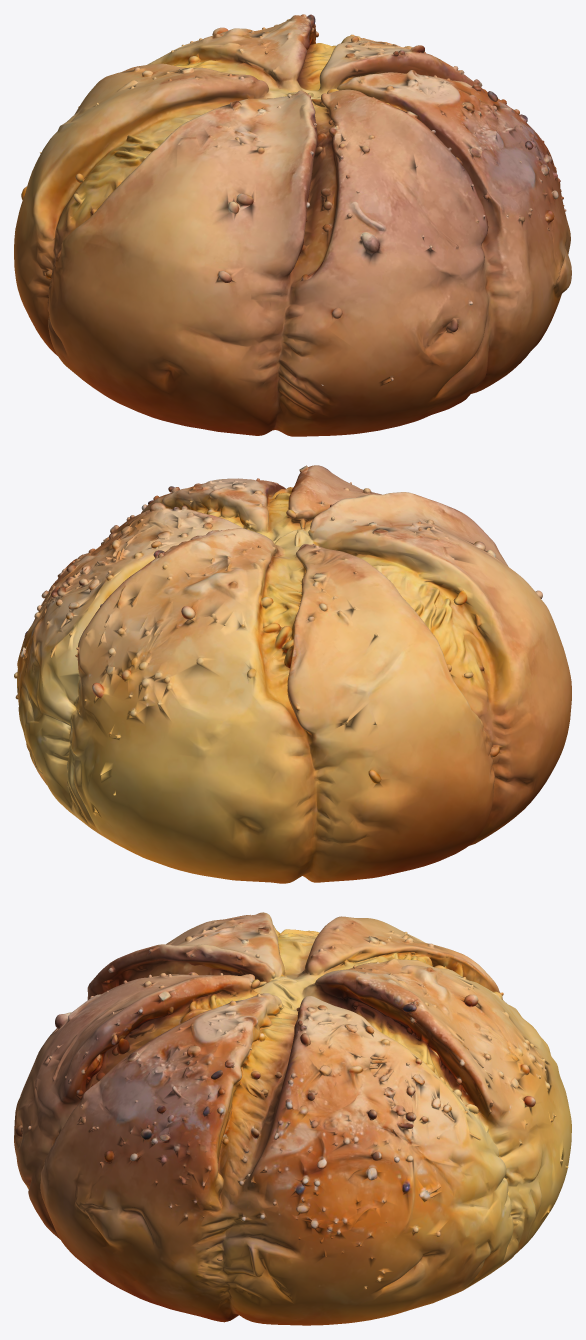
Rendered from bread.opt.glb.
The picture shows the model from 3 angles, top to bottom: view 1: azimuth 30°, elevation 25°; view 2: azimuth 150°, elevation 25°; view 3: azimuth 270°, elevation 25°; orthographic projection.
Parts seen in each view (by area): view 1: tripo_node_838ca63f-410a-48e7-95b6-53962bc68636; view 2: tripo_node_838ca63f-410a-48e7-95b6-53962bc68636; view 3: tripo_node_838ca63f-410a-48e7-95b6-53962bc68636.
Boxes of the visible parts, box(x1,y1,x2,y2) form: tripo_node_838ca63f-410a-48e7-95b6-53962bc68636: box(14, 14, 571, 436); tripo_node_838ca63f-410a-48e7-95b6-53962bc68636: box(14, 465, 571, 883); tripo_node_838ca63f-410a-48e7-95b6-53962bc68636: box(14, 912, 571, 1325).
Size of the model in its own units: 0.978 by 0.5721 by 0.9795.
1 material, 1 textured.
